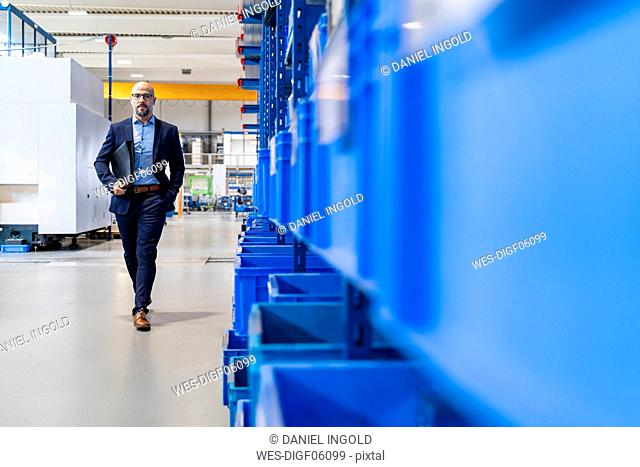person: (95, 81, 186, 332)
